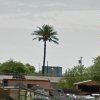Palm tree: (25, 16, 61, 74)
